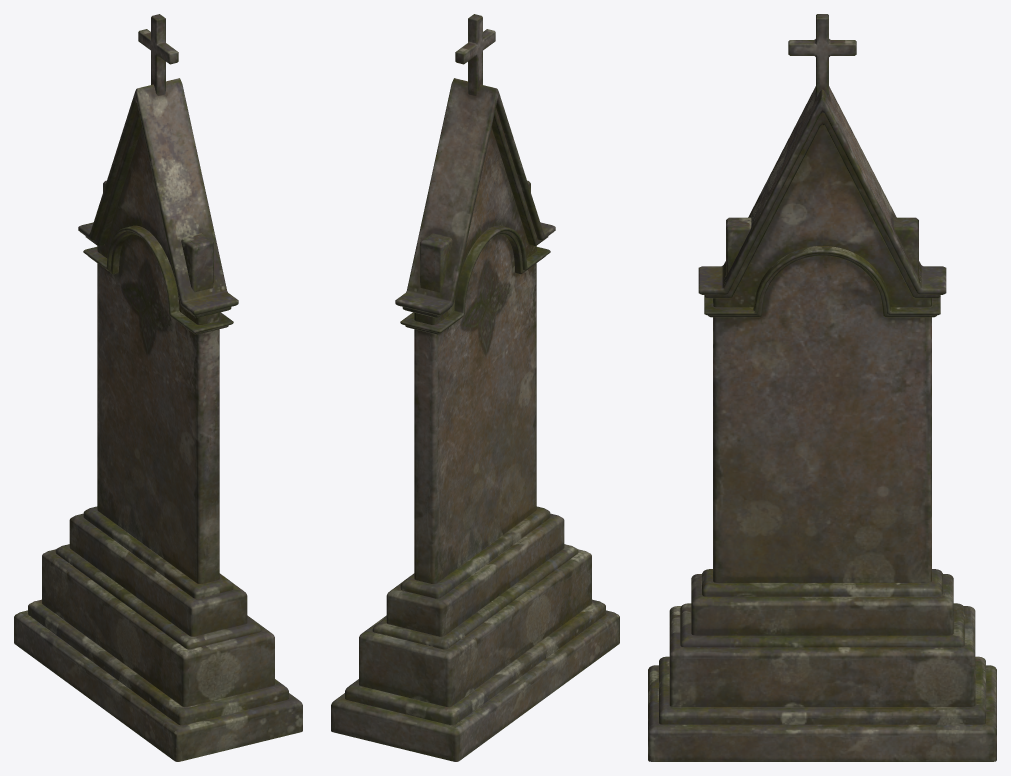
The model's file is SM_TombsD_001.fbx.
3 views of the same model, side by side, from view 1: azimuth 30°, elevation 25°; view 2: azimuth 150°, elevation 25°; view 3: azimuth 270°, elevation 25° (orthographic). The views are drawn at different scales.
Parts seen in each view (by area): view 1: SM_TombsD_001_LOD0; view 2: SM_TombsD_001_LOD0; view 3: SM_TombsD_001_LOD0.
Part boxes in pixels (<box>): SM_TombsD_001_LOD0: <box>14,14,302,761</box>; SM_TombsD_001_LOD0: <box>331,14,619,761</box>; SM_TombsD_001_LOD0: <box>648,14,996,761</box>.
Size of the model in its own units: 20.31 by 45.16 by 102.
Materials: 1 (1 with a texture image).
